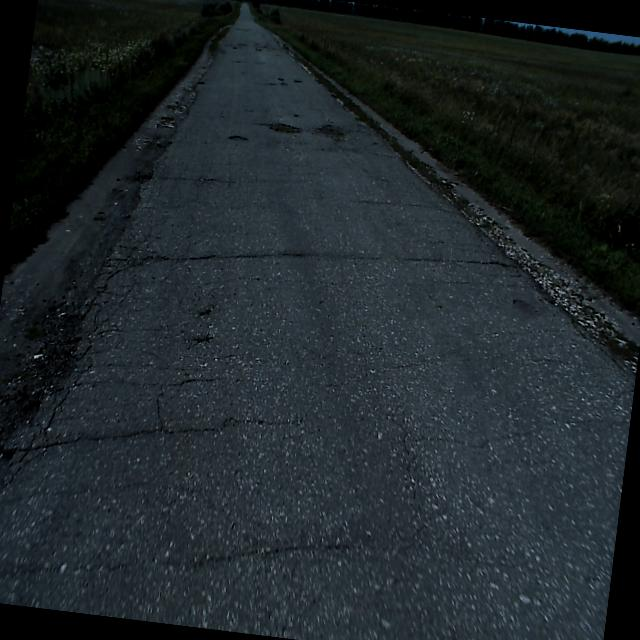road: (0, 3, 635, 640)
